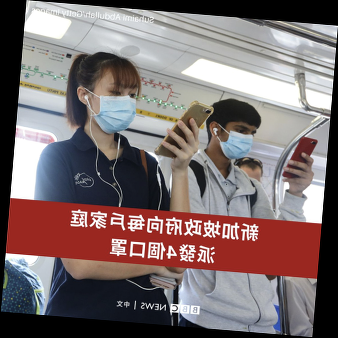with_mask: (89, 80, 137, 135), (221, 124, 256, 160)
